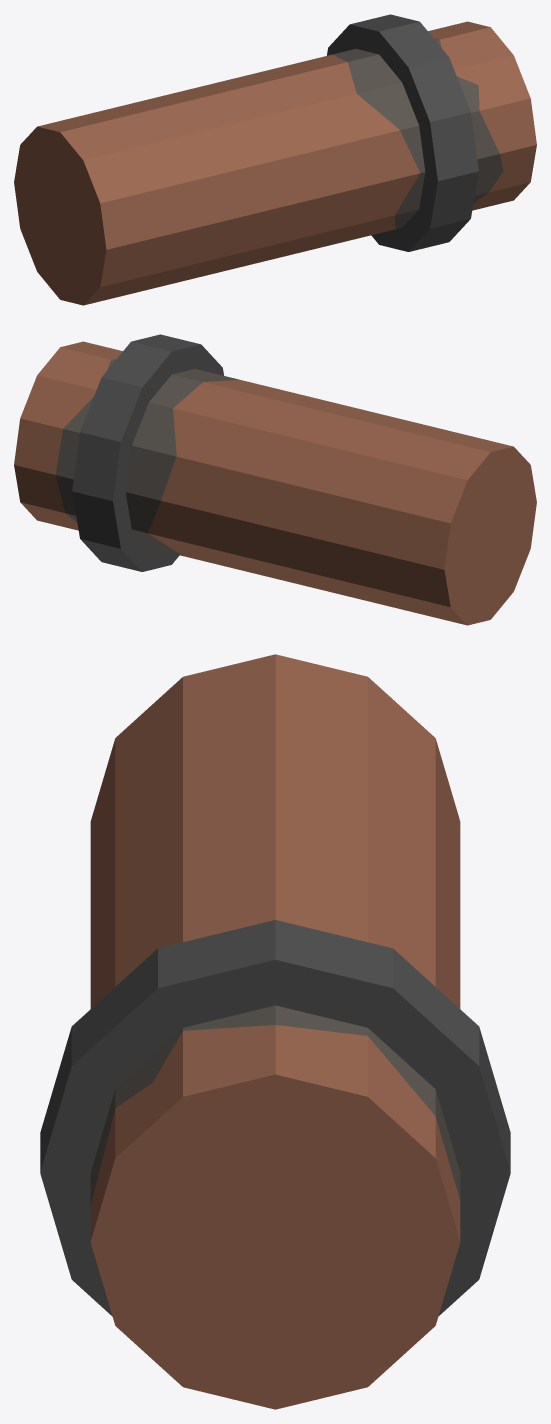
The model's file is Wh_Heatpipe_Connection.fbx.
The picture shows the model from 3 angles, top to bottom: view 1: azimuth 30°, elevation 25°; view 2: azimuth 150°, elevation 25°; view 3: azimuth 270°, elevation 25°; orthographic projection. The views are drawn at different scales.
Parts seen in each view (by area): view 1: Cylinder.017; view 2: Cylinder.017; view 3: Cylinder.017.
Boxes of the visible parts, x1,y1,x2,y2 form: Cylinder.017: (14,14,536,305); Cylinder.017: (14,334,536,625); Cylinder.017: (40,654,510,1409).
Size of the model in its own units: 200 by 94.68 by 94.68.
